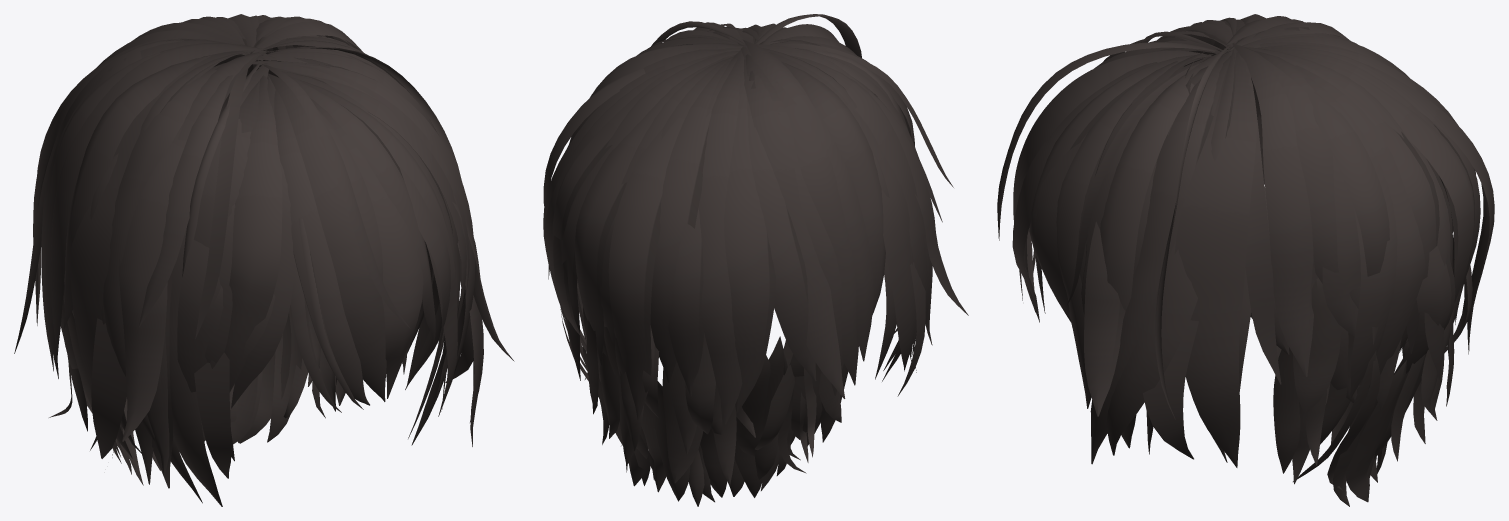
Rendered from vroid_hair_c17.glb.
The picture shows the model from 3 angles, left to right: view 1: azimuth 30°, elevation 25°; view 2: azimuth 150°, elevation 25°; view 3: azimuth 270°, elevation 25°; orthographic projection. The views are drawn at different scales.
Parts seen in each view (by area): view 1: part; view 2: part; view 3: part.
Boxes of the visible parts, x1,y1,x2,y2 form: part: [14, 14, 514, 506]; part: [543, 14, 968, 506]; part: [997, 14, 1494, 506].
Bounding box in the file's own units: 0.2191 × 0.2571 × 0.2623.
1 material, 1 textured.
